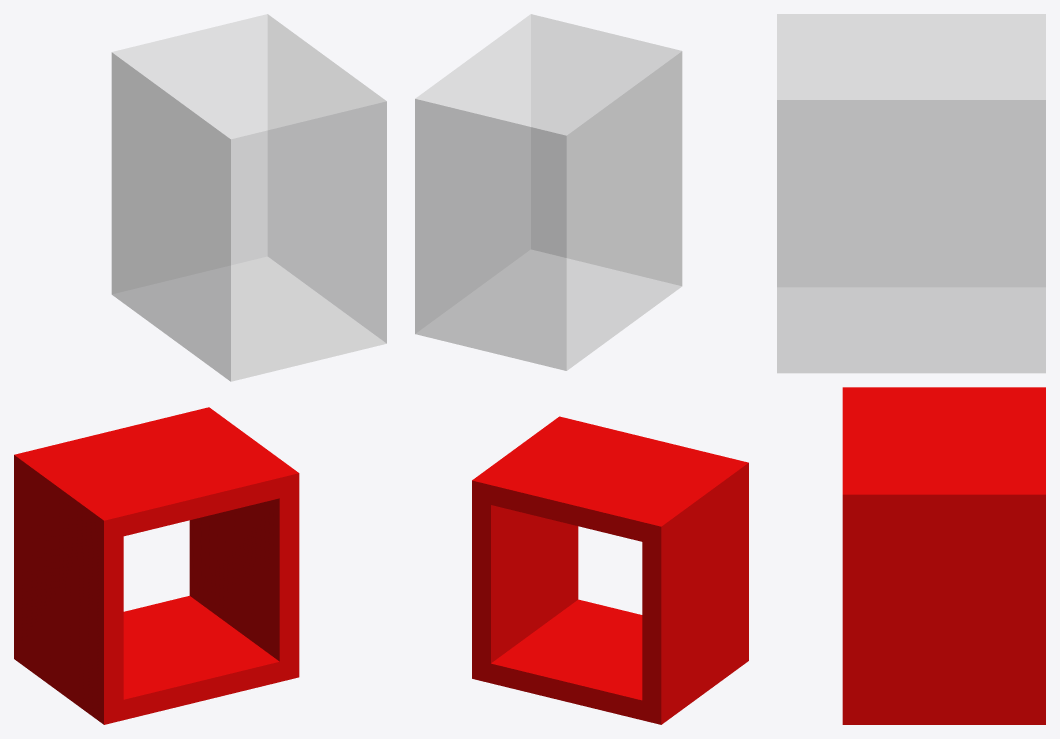
3 renders of one model, left to right at view 1: azimuth 30°, elevation 25°; view 2: azimuth 150°, elevation 25°; view 3: azimuth 270°, elevation 25°, orthographic. The views are drawn at different scales.
Visible parts, largest first — view 1: _ncl1_2, Part1; view 2: _ncl1_2, Part1; view 3: _ncl1_2, Part1.
Part boxes in pixels (x1=…): _ncl1_2: x1=111, y1=14, x2=386, y2=381; Part1: x1=14, y1=407, x2=299, y2=724; _ncl1_2: x1=415, y1=14, x2=682, y2=370; Part1: x1=472, y1=416, x2=748, y2=724; _ncl1_2: x1=777, y1=14, x2=1045, y2=373; Part1: x1=842, y1=387, x2=1045, y2=724.
Size of the model in its own units: 1.62 by 3.57 by 1.32.
